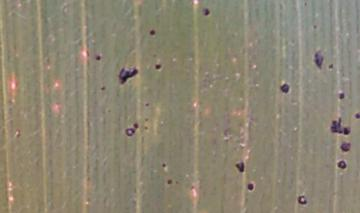tarspot: (117, 66, 139, 86), (330, 116, 351, 136), (313, 48, 325, 72), (124, 122, 140, 138), (278, 81, 290, 95), (234, 160, 246, 173), (339, 141, 352, 153), (297, 194, 308, 207), (200, 6, 211, 18), (336, 158, 347, 169), (245, 181, 255, 193), (153, 62, 162, 71), (337, 91, 345, 101), (147, 28, 157, 36), (326, 62, 334, 71), (99, 84, 107, 93), (94, 54, 102, 62), (353, 111, 360, 120), (166, 178, 173, 187), (143, 116, 150, 125), (143, 101, 151, 108), (105, 107, 113, 114), (311, 23, 318, 30), (143, 124, 149, 132), (303, 1, 308, 7), (161, 162, 166, 168)
